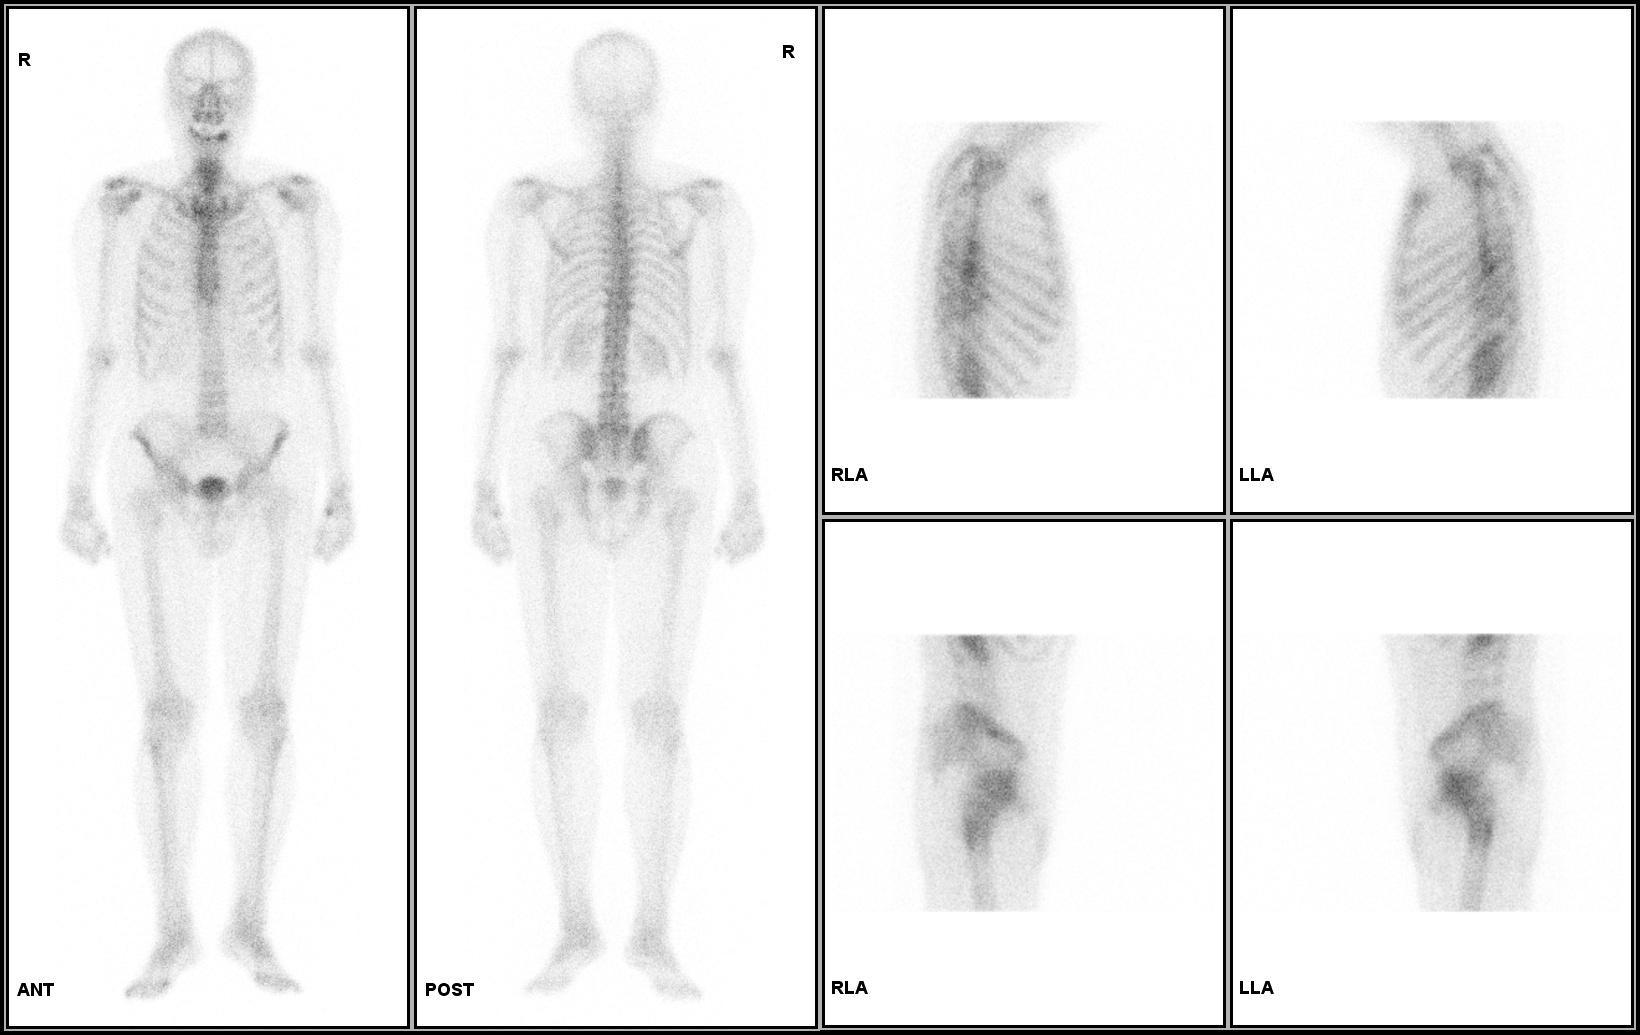person: (6, 5, 819, 1029)
